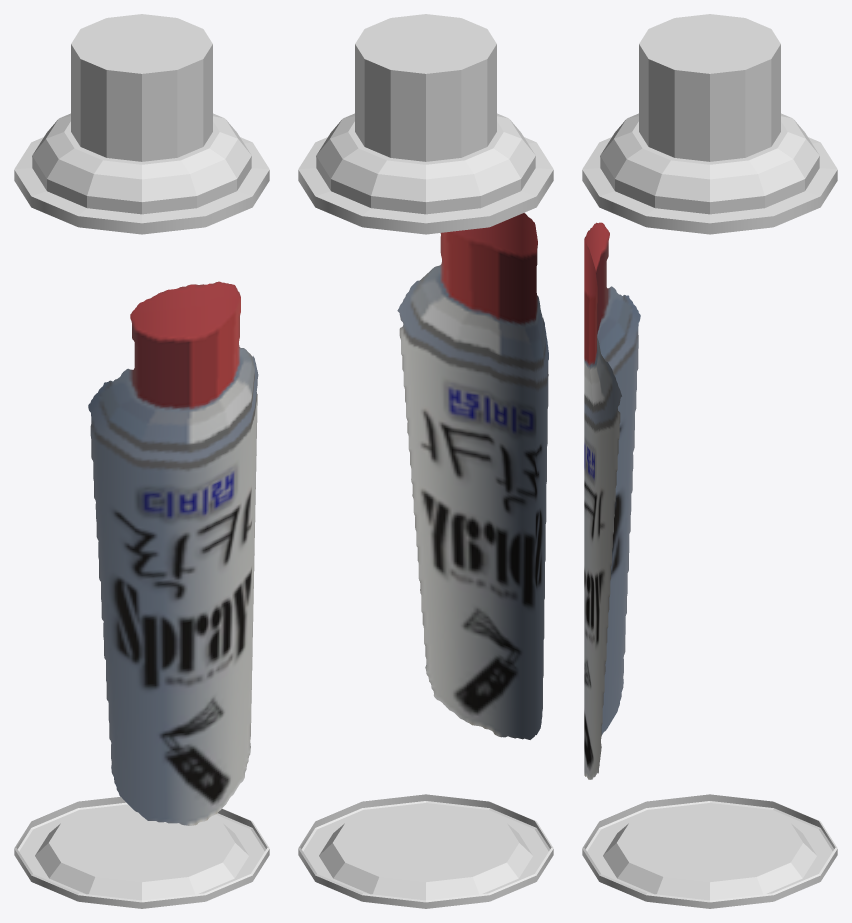
Rendered from Spray.FBX.
The picture shows the model from 3 angles, left to right: view 1: azimuth 30°, elevation 25°; view 2: azimuth 150°, elevation 25°; view 3: azimuth 270°, elevation 25°; orthographic projection.
Parts seen in each view (by area): view 1: Label, Cylinder001, cap; view 2: Label, Cylinder001, cap; view 3: Cylinder001, Label, cap.
Part boxes in pixels (x1,y1,x2,y2): Label: (88, 281, 258, 825); Cylinder001: (14, 113, 269, 908); cap: (71, 14, 212, 161); Label: (397, 213, 548, 739); Cylinder001: (298, 113, 553, 908); cap: (355, 14, 496, 161); Cylinder001: (582, 113, 837, 908); Label: (584, 222, 640, 779); cap: (639, 14, 780, 161).
Bounding box in the file's own units: 102 × 357 × 102.
